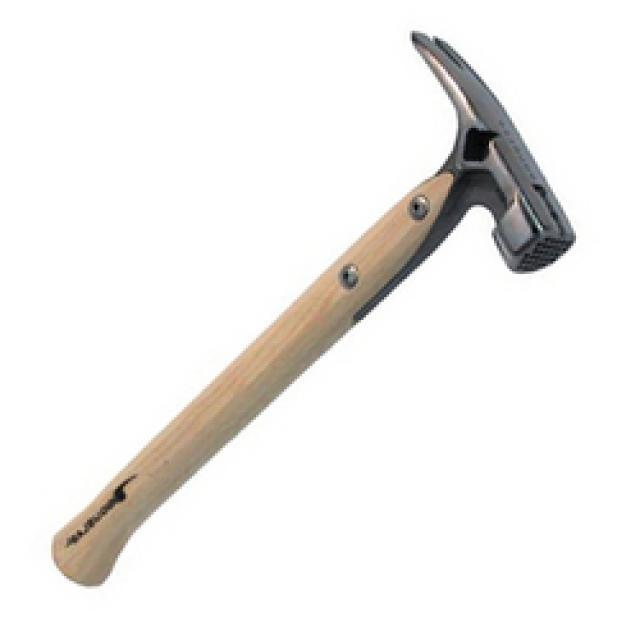hammer: (44, 24, 586, 592)
